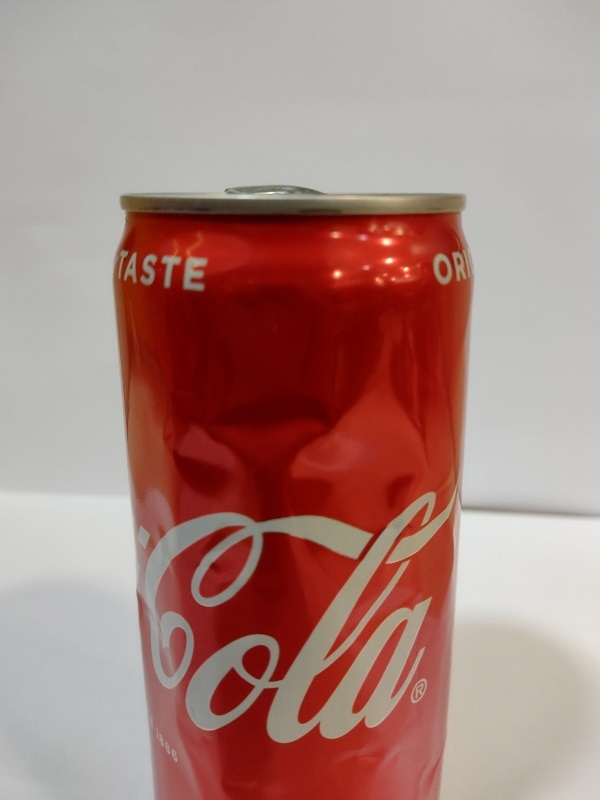can: (90, 165, 486, 800)
